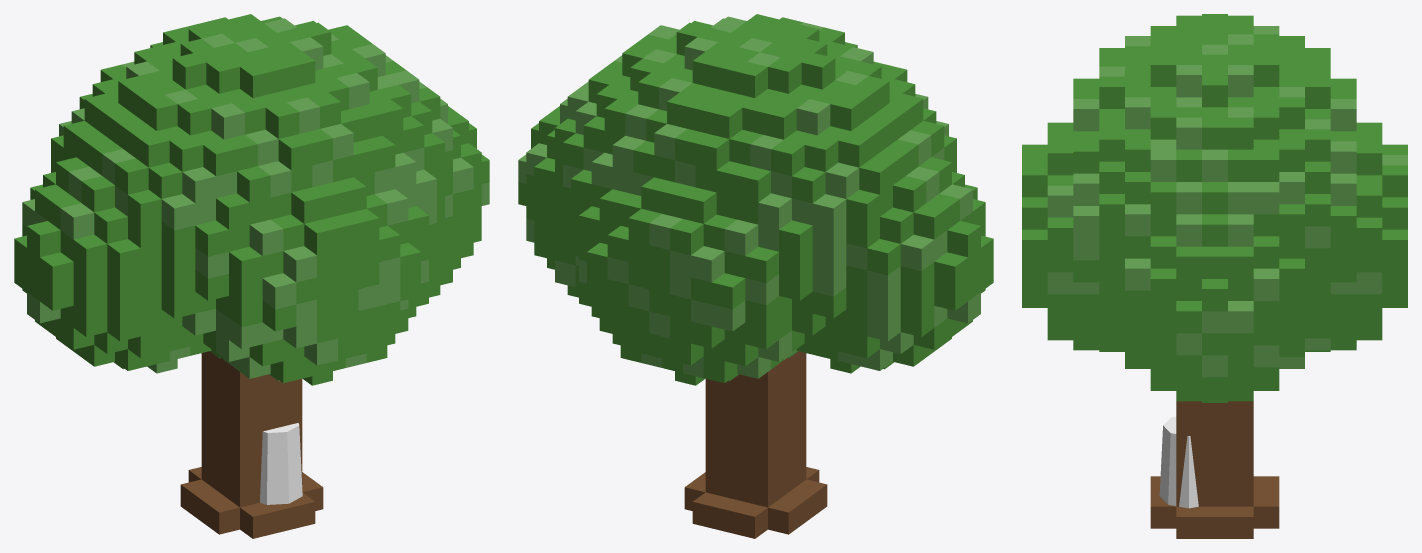
File: floresta_tree_oak_hero_green.glb
3 views of the same model, side by side, from view 1: azimuth 30°, elevation 25°; view 2: azimuth 150°, elevation 25°; view 3: azimuth 270°, elevation 25° (orthographic).
Visible parts, largest first — view 1: Oak hero green f, Colisao; view 2: Oak hero green f; view 3: Oak hero green f, Colisao.
Part boxes in pixels (<box>): Oak hero green f: <box>14,14,489,538</box>; Colisao: <box>260,423,302,504</box>; Oak hero green f: <box>518,14,993,538</box>; Oak hero green f: <box>1022,14,1407,538</box>; Colisao: <box>1159,416,1198,508</box>.
Bounding box in the file's own units: 16.12 × 16.31 × 12.3.
